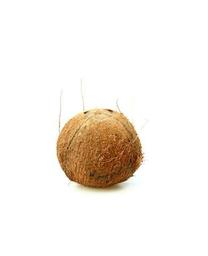coconut: (56, 108, 145, 188)
